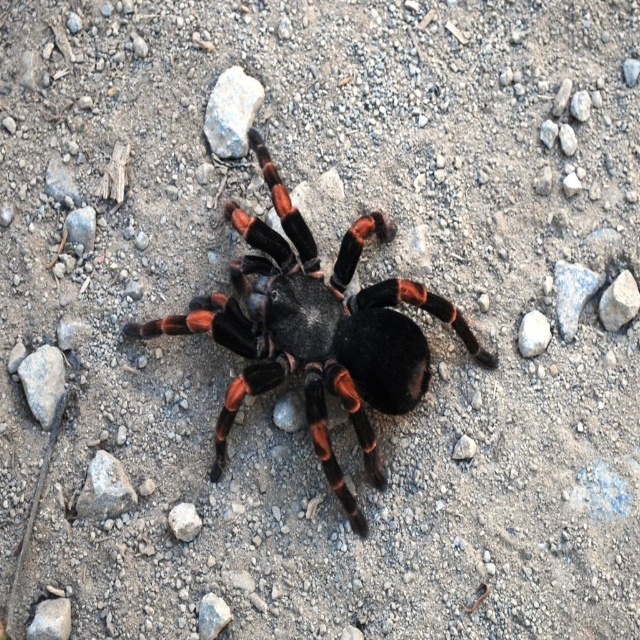Spider: (123, 127, 499, 540)
